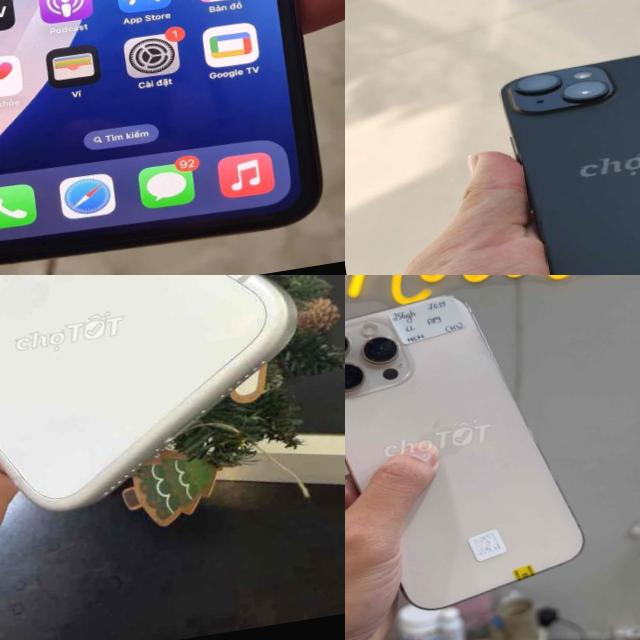gen_11: (0, 0, 341, 275)
gen_15: (449, 5, 640, 275)
gen_16: (345, 275, 614, 637)
gen_17: (0, 275, 330, 550)
